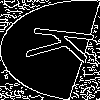K: (25, 25, 100, 66)
